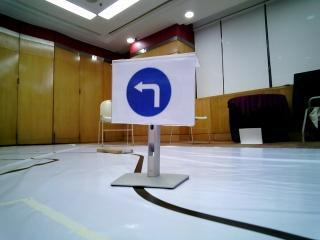left: (117, 58, 190, 121)
